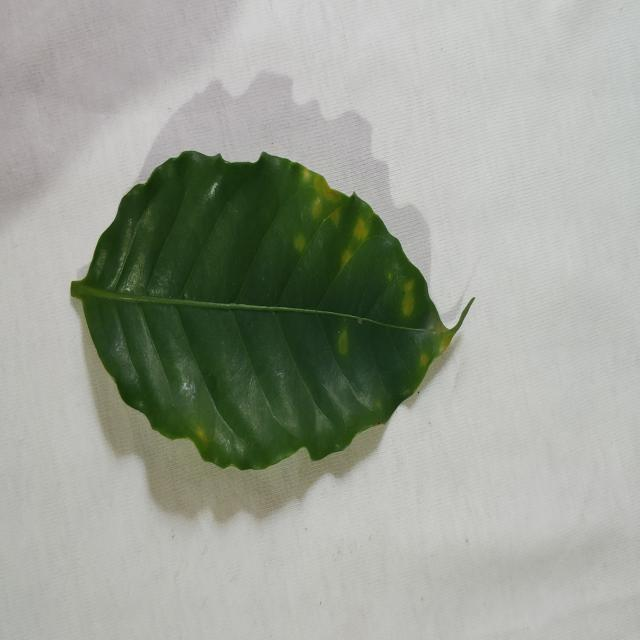Enfermedad-Roya: (68, 151, 472, 474)
